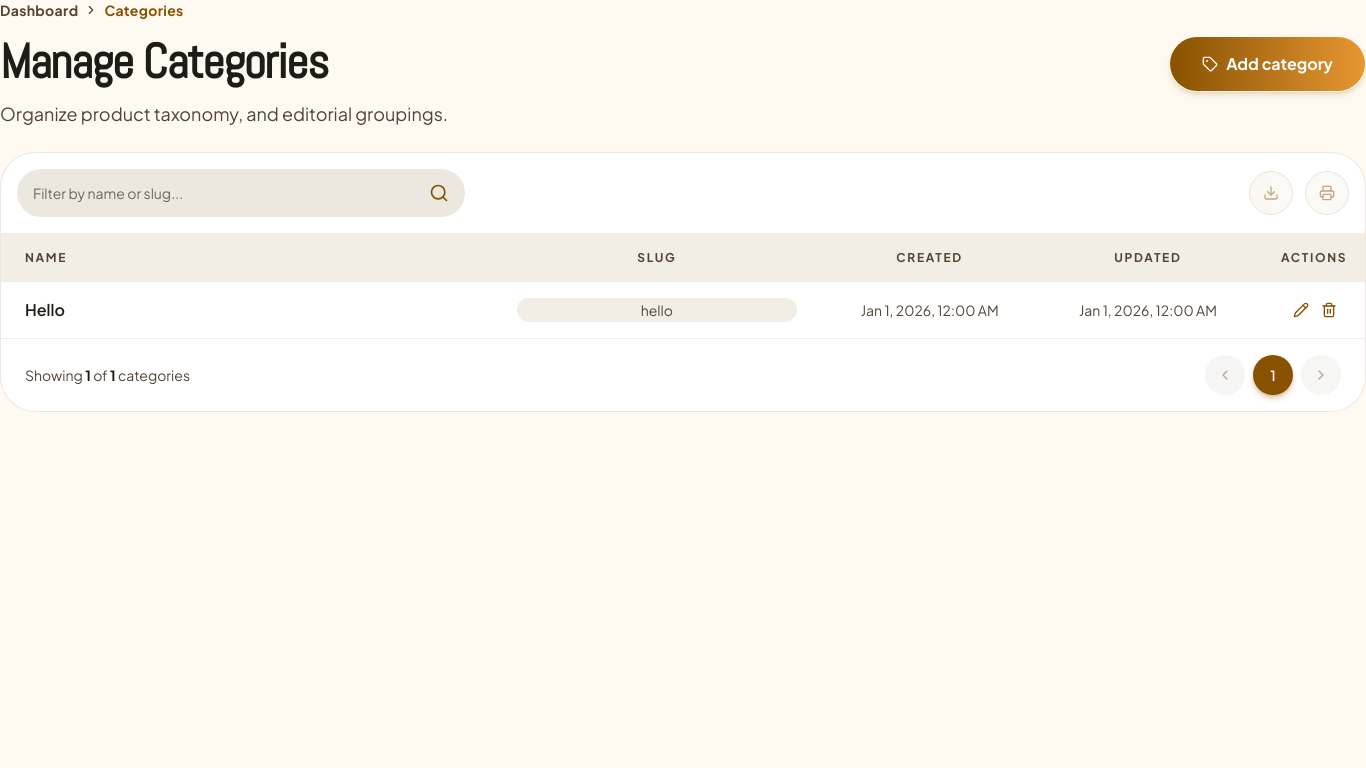
Scenario: Categories PageContent › delete dialog does not mention a Removed badge
Click the button named "remove hello": (1329, 310) [1317,298,1341,322]
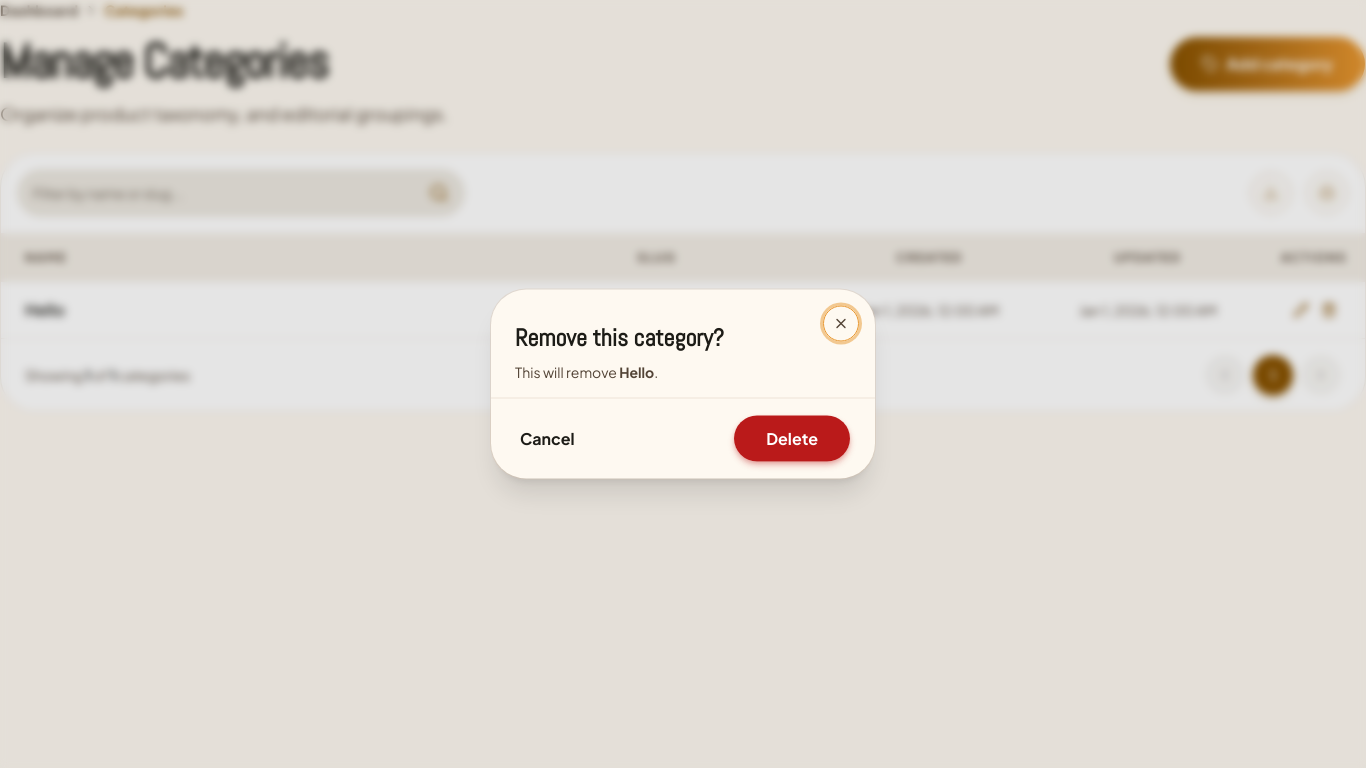
Check: the heading "Remove this category?" is shown, box [515,322,724,354]
